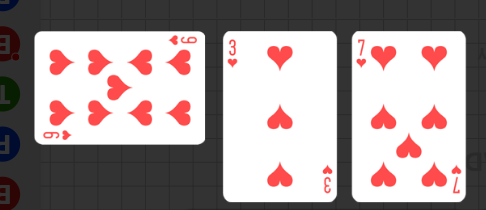7H: (449, 163, 462, 195)
9H: (166, 34, 198, 47), (42, 129, 73, 141)
